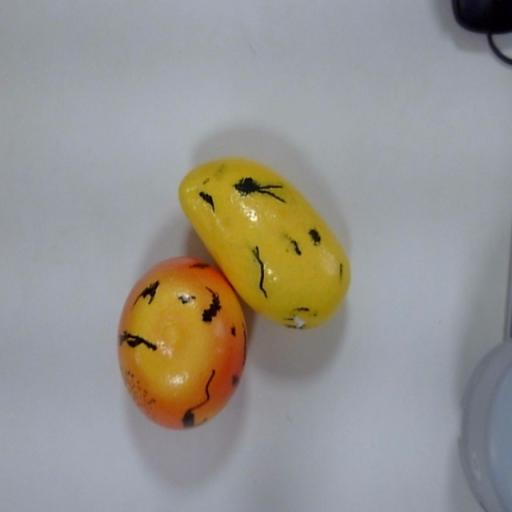Defective: (173, 125, 391, 327), (113, 246, 254, 440)
